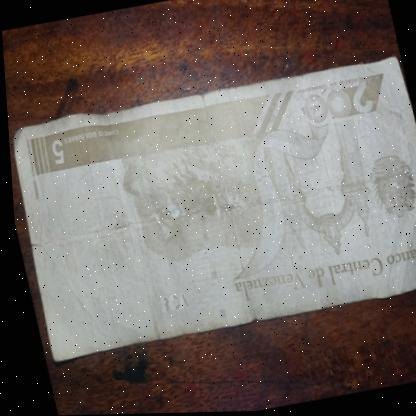five-back-vef: (3, 55, 416, 362)
